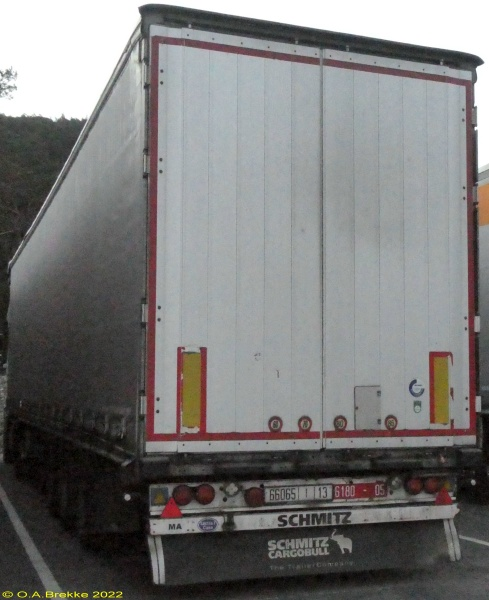number_plate: (264, 486, 334, 499)
